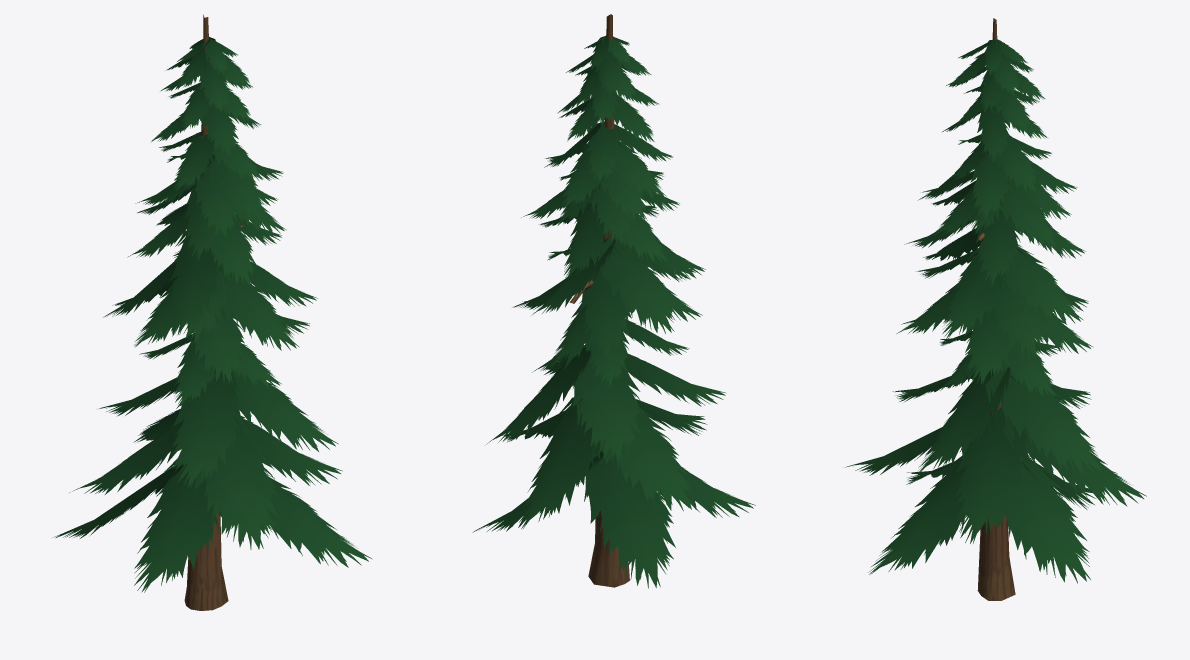
File: SM_Pine_Tree_3.glb
3 views of the same model, side by side, from view 1: azimuth 30°, elevation 25°; view 2: azimuth 150°, elevation 25°; view 3: azimuth 270°, elevation 25° (orthographic). The views are drawn at different scales.
Visible parts, largest first — view 1: SM_Pine_Tree_3; view 2: SM_Pine_Tree_3; view 3: SM_Pine_Tree_3.
Boxes of the visible parts, x1,y1,x2,y2 form: SM_Pine_Tree_3: (52, 14, 372, 610); SM_Pine_Tree_3: (472, 14, 755, 588); SM_Pine_Tree_3: (845, 18, 1146, 600).
Bounding box in the file's own units: 1.54 × 2.77 × 1.61.
2 materials, 2 textured.
